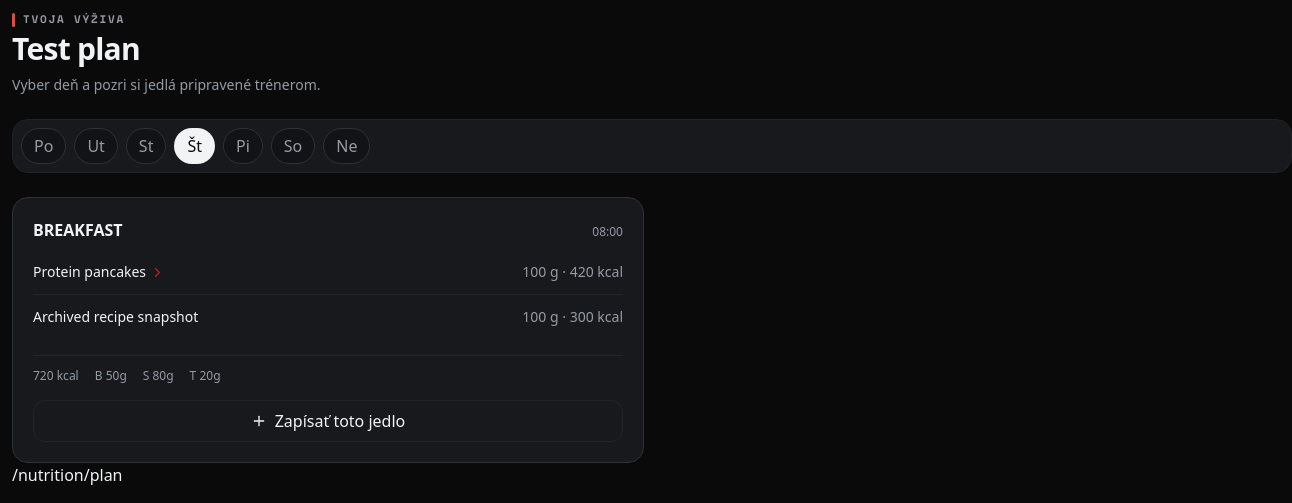
Test case: starts a meal log prefilled from the selected meal card
Step 1. Click the button "Zapísať toto jedlo" → (328,421), box [33,400,623,442]
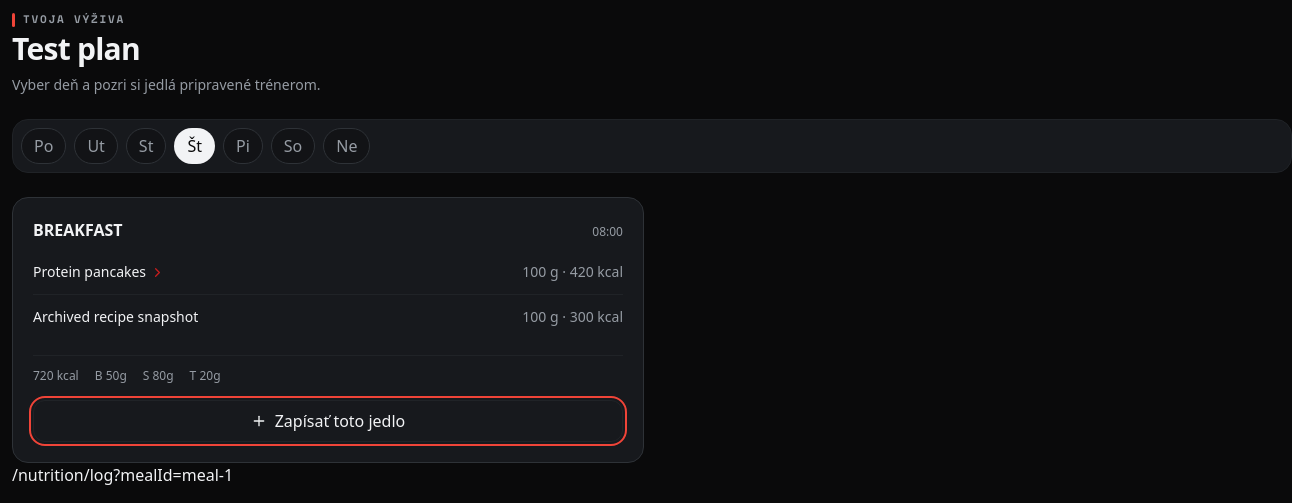
Expected: the text with test id "location" reads "/nutrition/log?mealId=meal-1", [12,464,233,486]
